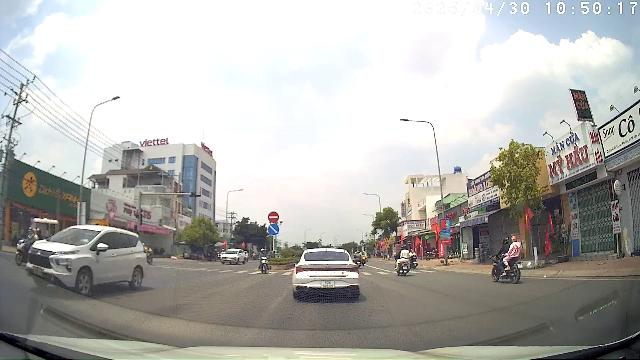102-cam-di-nguoc-chieu: (268, 211, 279, 223)
302a-huong-phai-di-vong-chuong-ngai-vat-1: (268, 223, 280, 235)
